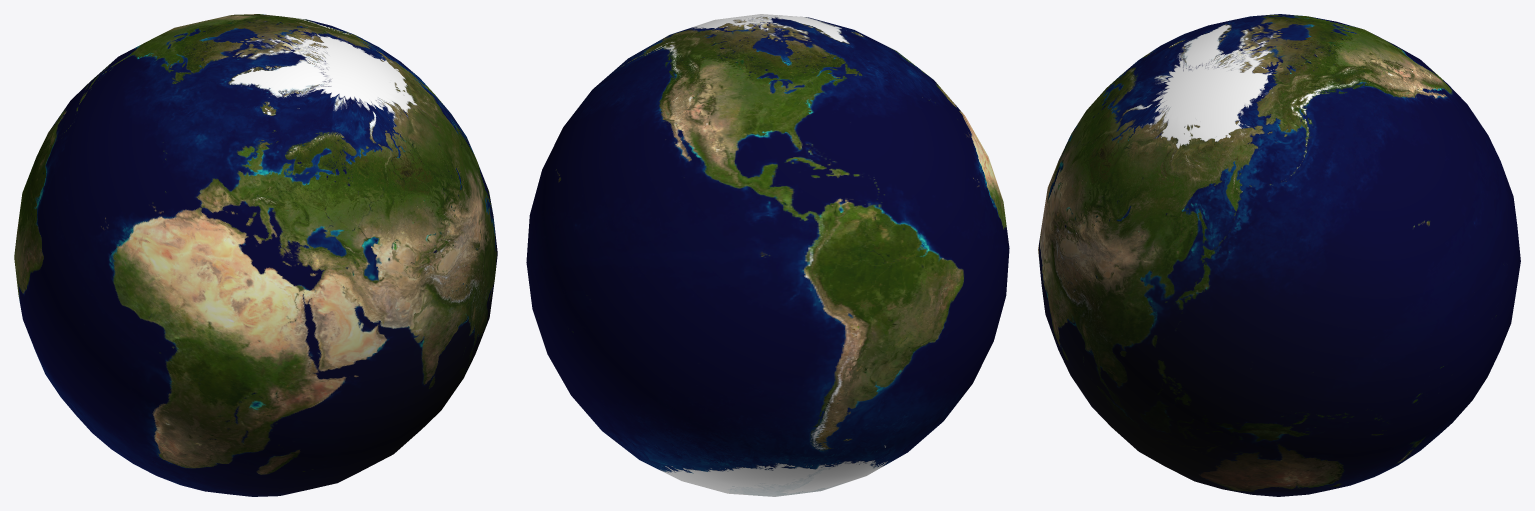
The model's file is earth.glb.
3 views of the same model, side by side, from view 1: azimuth 30°, elevation 25°; view 2: azimuth 150°, elevation 25°; view 3: azimuth 270°, elevation 25° (orthographic).
Visible parts, largest first — view 1: earth; view 2: earth; view 3: earth.
Boxes of the visible parts, box(x1,y1,x2,y2) form: earth: box(14, 14, 497, 496); earth: box(526, 14, 1009, 496); earth: box(1038, 14, 1520, 496).
Bounding box in the file's own units: 19.91 × 19.96 × 19.99.
1 material, 1 textured.
